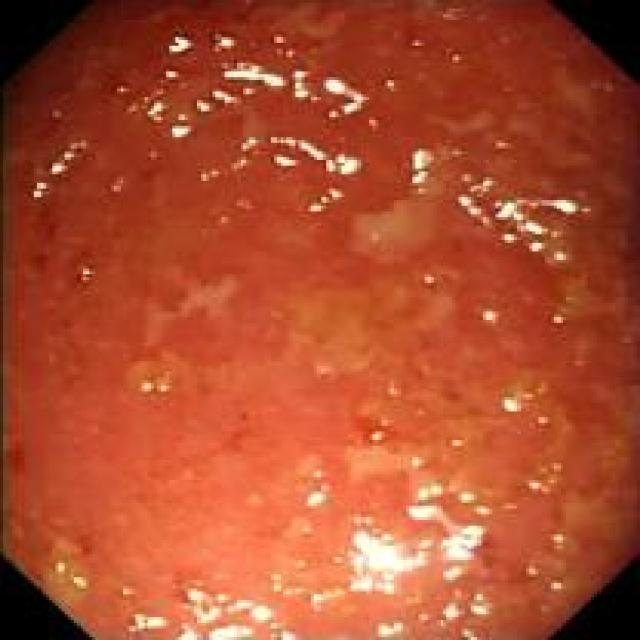specularity: (455, 173, 577, 267), (332, 512, 437, 599), (405, 480, 494, 567), (165, 584, 310, 637), (267, 560, 347, 609), (267, 136, 359, 171), (403, 143, 441, 200), (215, 61, 289, 89), (195, 156, 256, 188), (323, 77, 368, 116), (49, 555, 92, 593), (302, 465, 335, 512), (192, 89, 243, 116), (131, 371, 178, 400), (121, 609, 172, 635), (50, 137, 86, 171), (290, 64, 320, 104), (302, 185, 345, 211), (497, 387, 536, 415), (164, 108, 194, 144), (523, 475, 560, 501), (464, 592, 498, 620), (366, 412, 393, 445), (108, 79, 145, 103), (139, 96, 168, 125), (442, 431, 477, 455), (437, 561, 468, 588), (438, 600, 464, 632), (475, 304, 504, 332), (269, 33, 300, 59), (544, 527, 576, 552), (385, 376, 408, 409), (73, 260, 99, 289), (403, 448, 434, 472), (296, 520, 322, 548), (108, 580, 144, 600), (158, 64, 192, 85), (418, 264, 442, 293), (547, 305, 570, 335), (376, 75, 408, 96), (208, 33, 241, 53), (233, 135, 263, 157), (373, 617, 405, 637), (517, 560, 547, 581), (159, 36, 192, 55), (30, 173, 50, 203), (106, 176, 128, 195), (493, 137, 511, 151)
